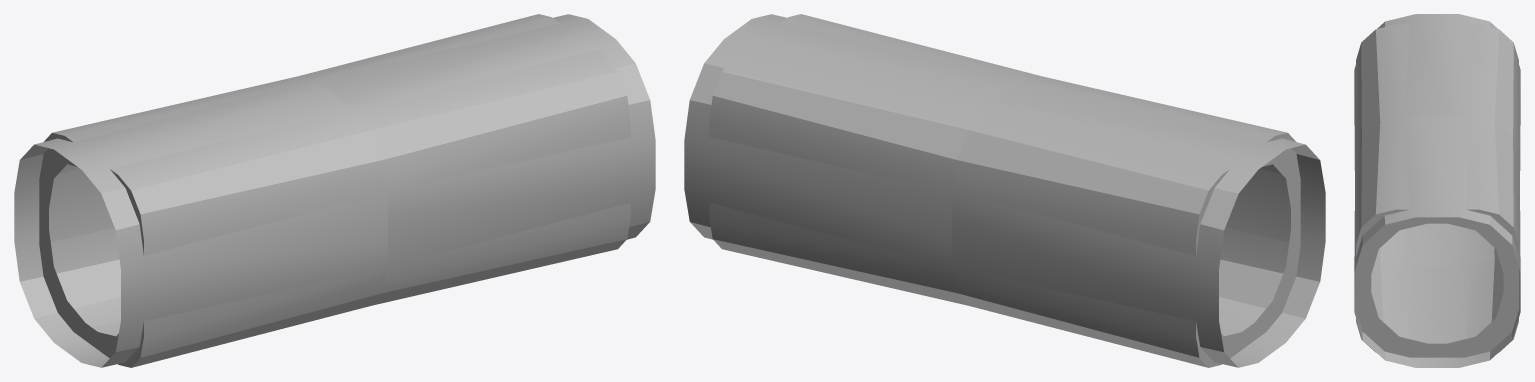
File: cloth_spiral_road  (1).fbx
The picture shows the model from 3 angles, left to right: view 1: azimuth 30°, elevation 25°; view 2: azimuth 150°, elevation 25°; view 3: azimuth 270°, elevation 25°; orthographic projection. The views are drawn at different scales.
Parts seen in each view (by area): view 1: cloth_spiral_road .002, cloth_spiral_road .001; view 2: cloth_spiral_road .002, cloth_spiral_road .001; view 3: cloth_spiral_road .002, cloth_spiral_road .001.
Part boxes in pixels (x1,y1,x2,y2): cloth_spiral_road .002: [14, 14, 630, 367]; cloth_spiral_road .001: [39, 14, 655, 367]; cloth_spiral_road .002: [709, 14, 1325, 367]; cloth_spiral_road .001: [684, 14, 1300, 367]; cloth_spiral_road .002: [1354, 14, 1520, 357]; cloth_spiral_road .001: [1354, 24, 1520, 367].
Size of the model in its own units: 370 by 128 by 128.
